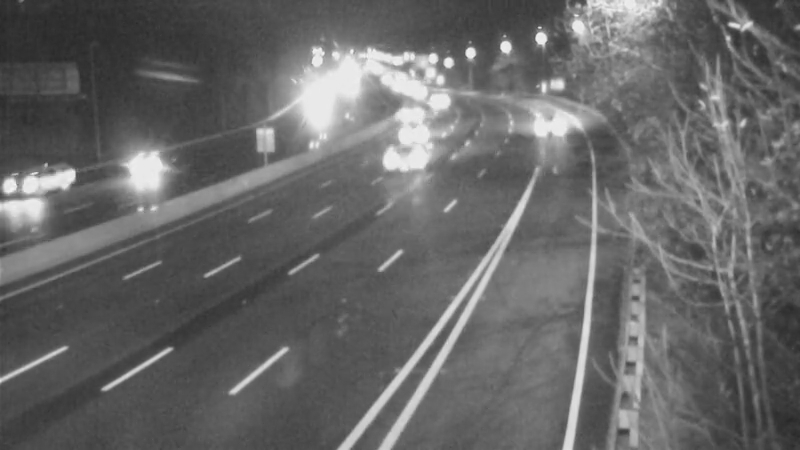vehicle: (364, 122, 444, 202), (1, 143, 81, 223), (104, 124, 184, 204), (402, 69, 452, 119), (416, 77, 466, 127), (521, 105, 571, 155), (380, 94, 430, 144), (389, 105, 439, 155)
